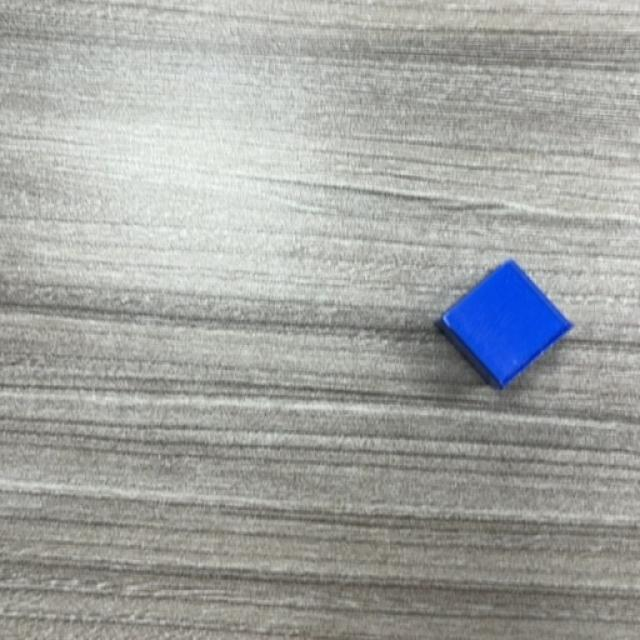Azul: (434, 260, 574, 392)
